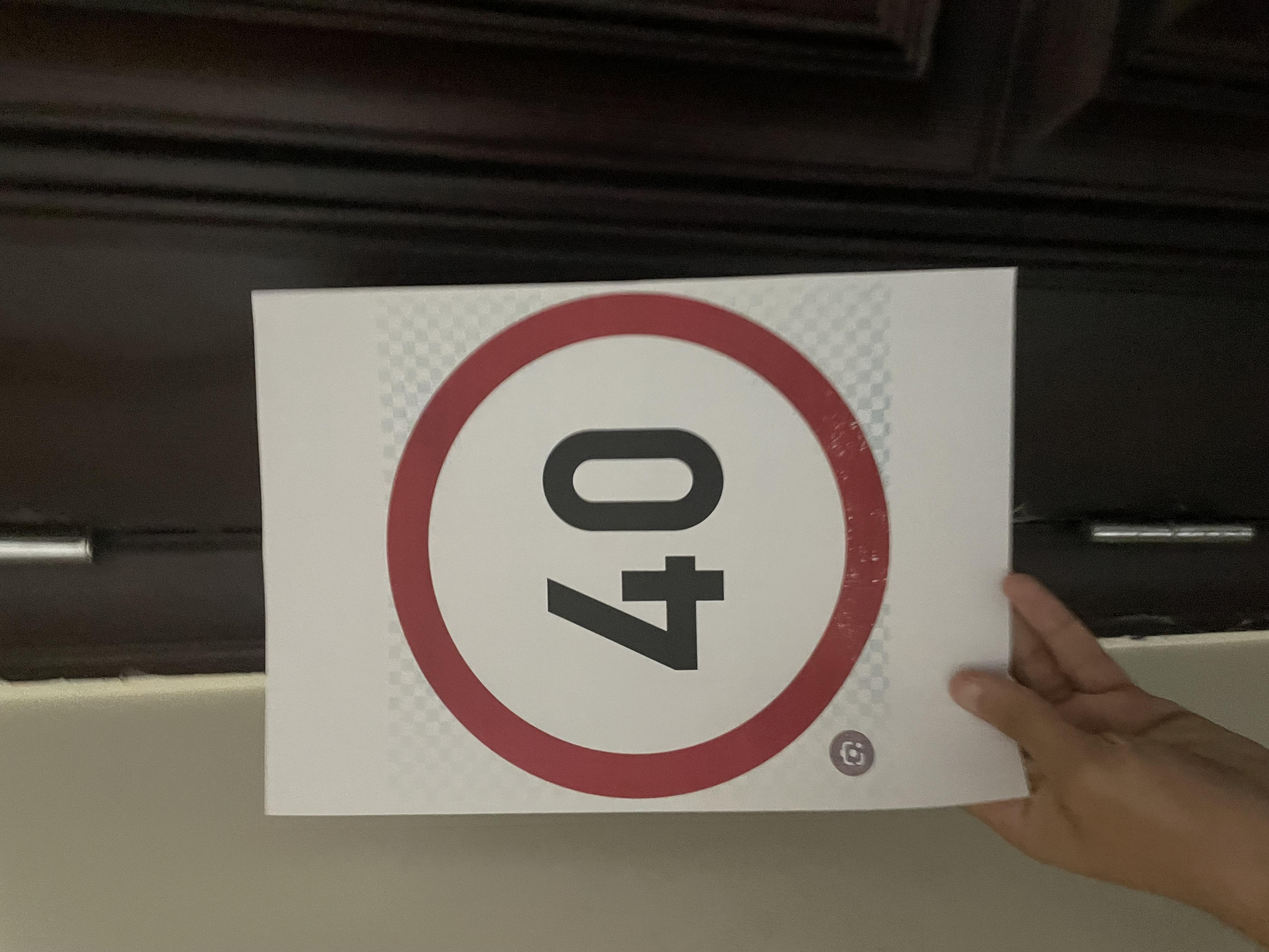40-Speed: (202, 284, 892, 674)
